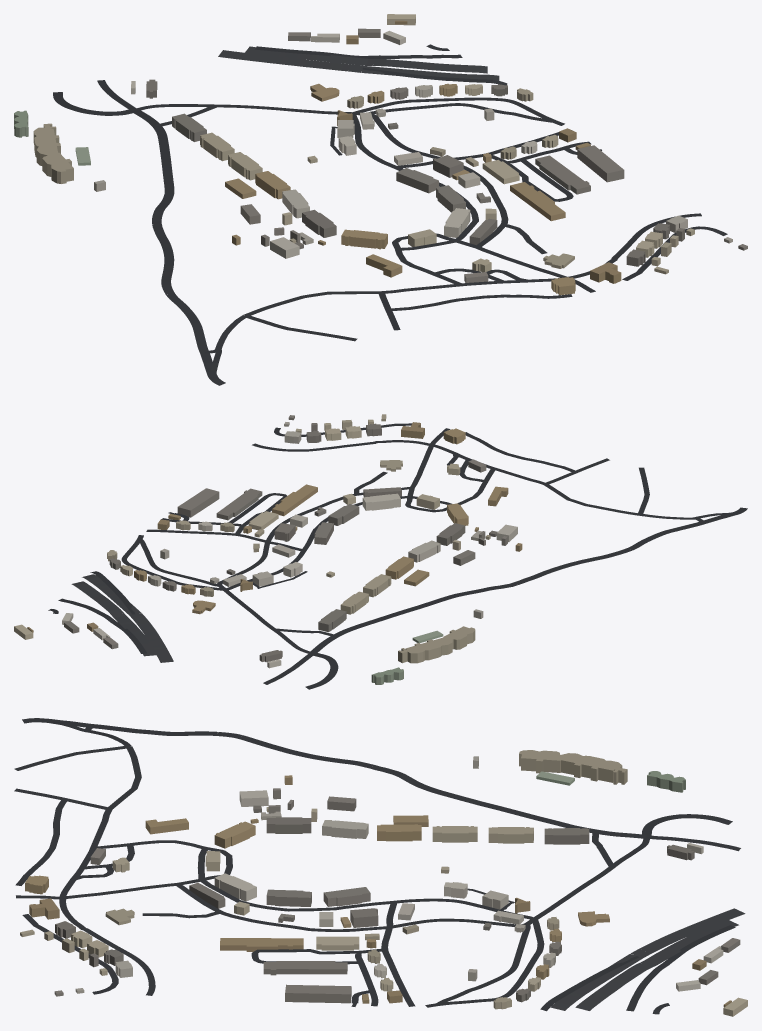
File: tile_5_9.glb
3 views of the same model, one above another, from view 1: azimuth 30°, elevation 25°; view 2: azimuth 150°, elevation 25°; view 3: azimuth 270°, elevation 25° (orthographic). The views are drawn at different scales.
Parts seen in each view (by area): view 1: bld_5_9, road_5_9; view 2: bld_5_9, road_5_9; view 3: bld_5_9, road_5_9.
Boxes of the visible parts, box(x1,y1,x2,y2) form: bld_5_9: box(14, 14, 747, 295); road_5_9: box(53, 44, 727, 385); bld_5_9: box(14, 414, 522, 684); road_5_9: box(48, 423, 747, 689); bld_5_9: box(20, 750, 747, 1016); road_5_9: box(14, 718, 745, 1014).
Bounding box in the file's own units: 717 × 53.41 × 819.
